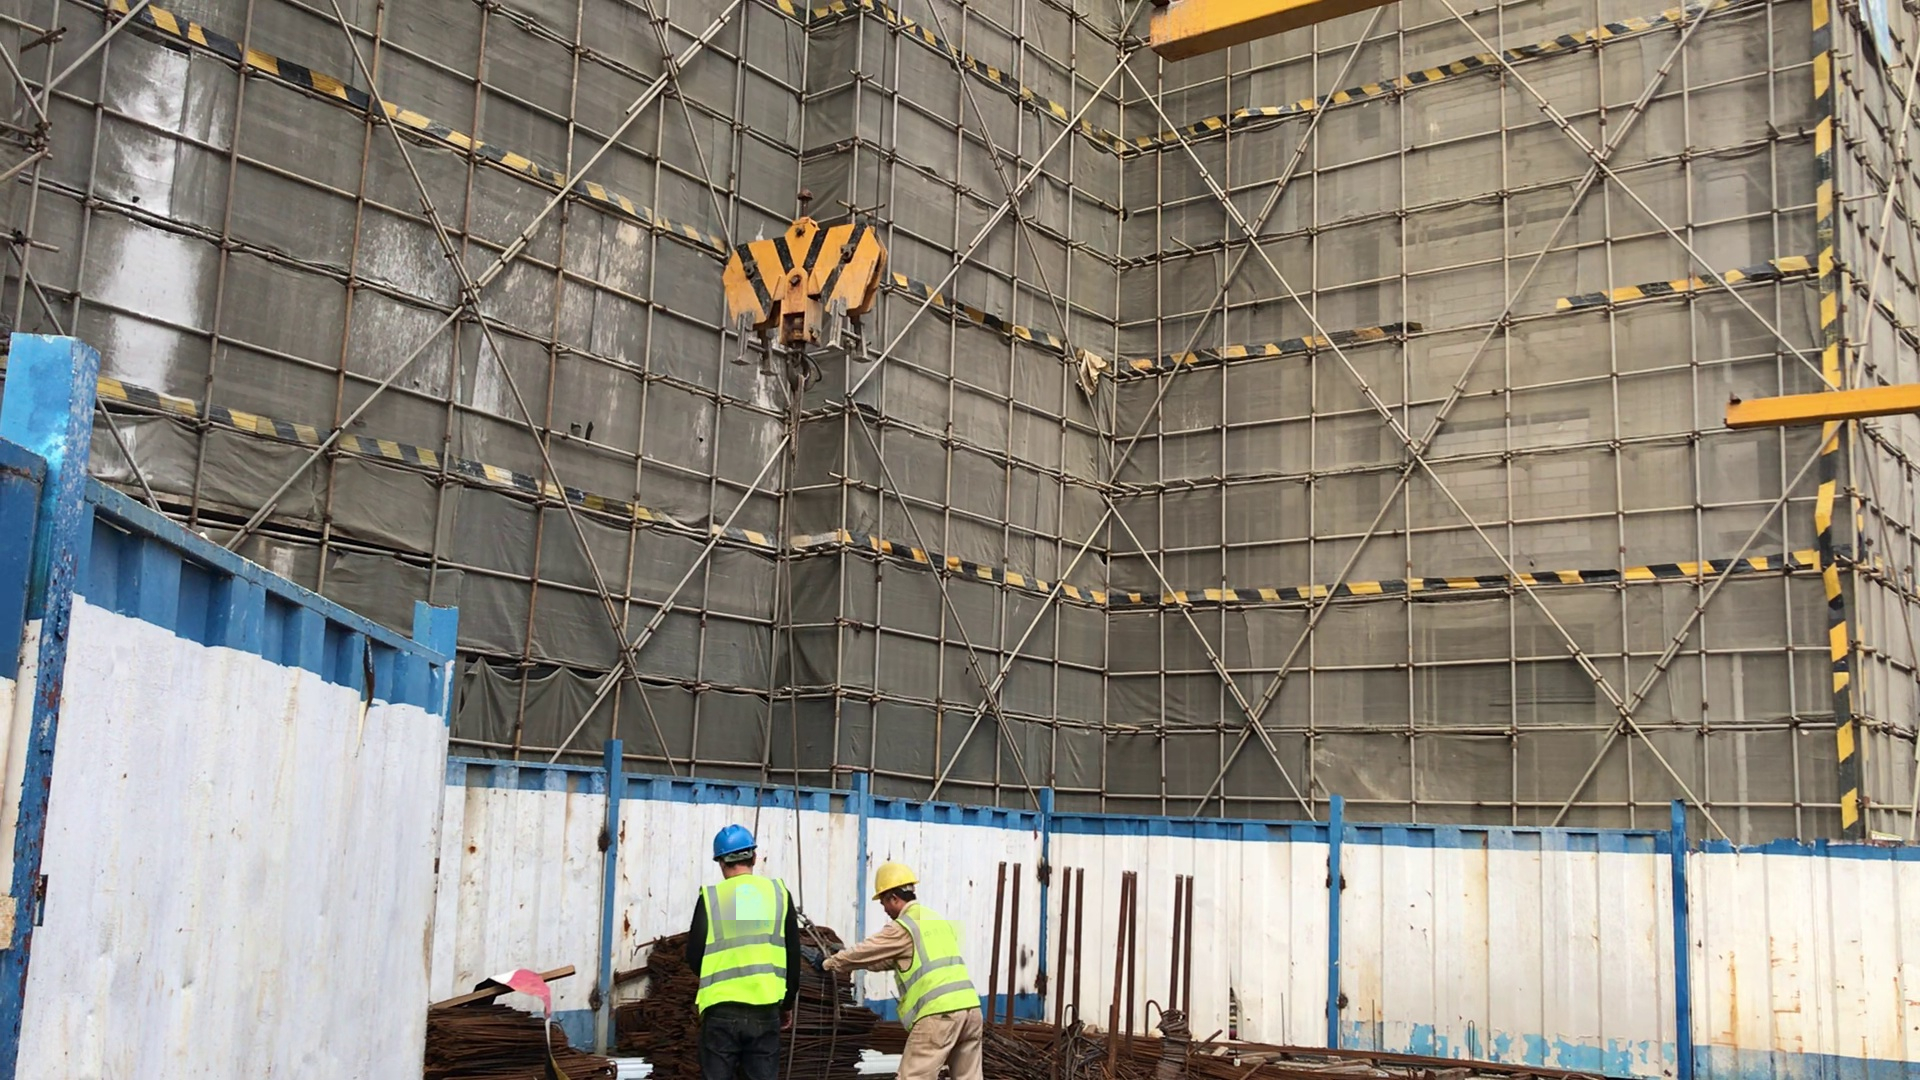helmet: (874, 863, 919, 902), (712, 825, 757, 859)
hook: (725, 191, 885, 389)
person: (690, 827, 802, 1080), (856, 866, 984, 1080)
vest: (696, 881, 786, 1012), (893, 916, 979, 1022)
